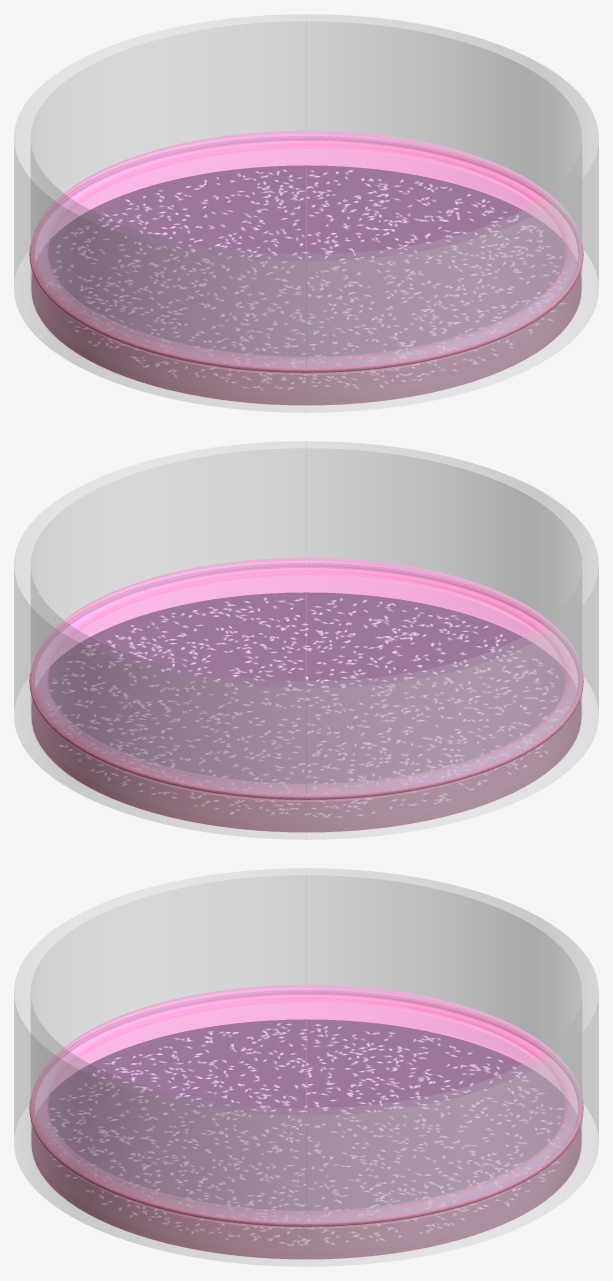
Rendered from placa-com-celulas.glb.
3 renders of one model, top to bottom at view 1: azimuth 30°, elevation 25°; view 2: azimuth 150°, elevation 25°; view 3: azimuth 270°, elevation 25°, orthographic.
Visible parts, largest first — view 1: dish_wall_dish, dish_wall_inner_dish, medium_surface, culture_floor_dish, medium_body, medium_meniscus, monolayer_dish, medium_level_line; view 2: dish_wall_dish, dish_wall_inner_dish, medium_surface, culture_floor_dish, medium_body, medium_meniscus, monolayer_dish, medium_level_line; view 3: dish_wall_dish, dish_wall_inner_dish, medium_surface, culture_floor_dish, medium_body, medium_meniscus, monolayer_dish, medium_level_line.
Boxes of the visible parts, x1,y1,x2,y2 form: dish_wall_dish: [14, 14, 598, 412]; dish_wall_inner_dish: [30, 21, 582, 404]; medium_surface: [48, 140, 564, 356]; culture_floor_dish: [32, 165, 580, 404]; medium_body: [31, 149, 581, 404]; medium_meniscus: [30, 130, 582, 373]; monolayer_dish: [52, 169, 565, 389]; medium_level_line: [29, 136, 583, 372]; dish_wall_dish: [14, 441, 598, 839]; dish_wall_inner_dish: [30, 448, 582, 831]; medium_surface: [48, 567, 564, 783]; culture_floor_dish: [32, 592, 580, 831]; medium_body: [31, 576, 581, 831]; medium_meniscus: [30, 557, 582, 800]; monolayer_dish: [50, 597, 557, 817]; medium_level_line: [29, 563, 583, 799]; dish_wall_dish: [14, 868, 598, 1266]; dish_wall_inner_dish: [30, 875, 582, 1258]; medium_surface: [48, 994, 564, 1210]; culture_floor_dish: [32, 1019, 580, 1258]; medium_body: [31, 1003, 581, 1258]; medium_meniscus: [30, 984, 582, 1227]; monolayer_dish: [50, 1022, 560, 1245]; medium_level_line: [29, 990, 583, 1226].
Size of the model in its own units: 0.035 by 0.01 by 0.035.
